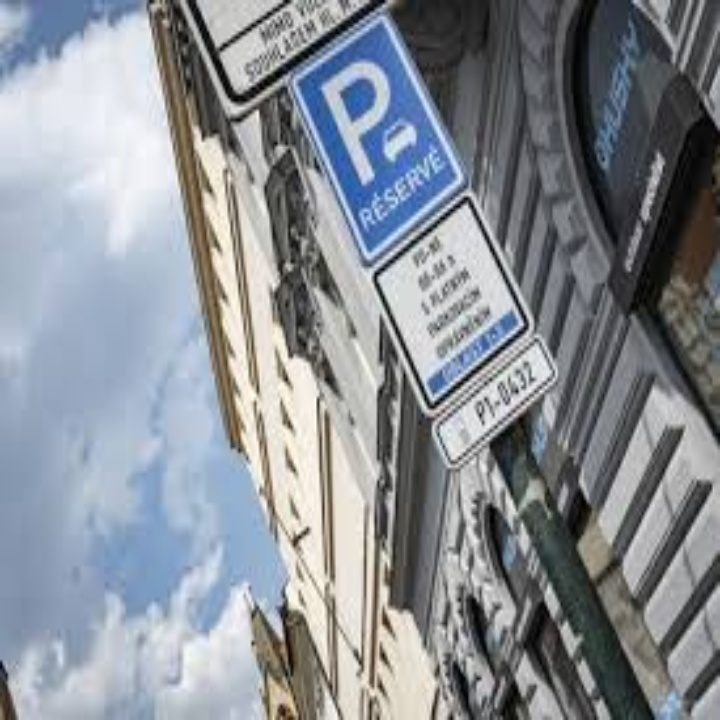parking: (318, 54, 395, 189)
